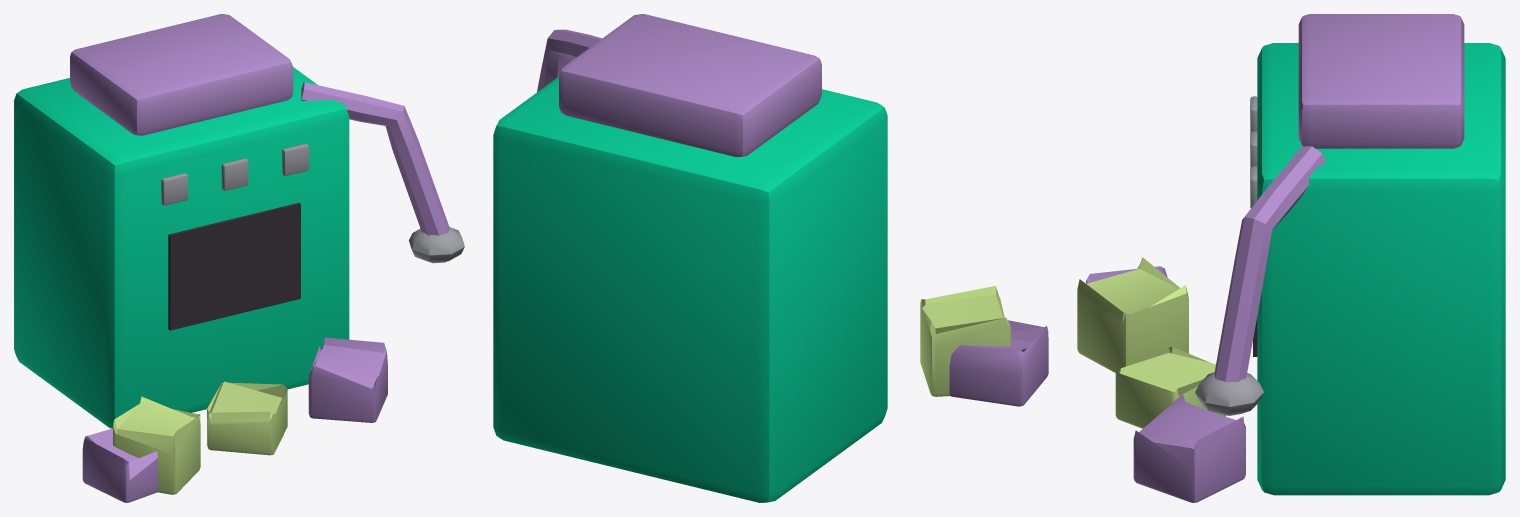
Rendered from TW_BrokenPacker.fbx.
3 views of the same model, side by side, from view 1: azimuth 30°, elevation 25°; view 2: azimuth 150°, elevation 25°; view 3: azimuth 270°, elevation 25° (orthographic). The views are drawn at different scales.
Visible parts, largest first — view 1: Body; view 2: Body; view 3: Body.
Part boxes in pixels (x1,y1,x2,y2): Body: (14, 14, 464, 502); Body: (493, 14, 1048, 502); Body: (1077, 14, 1505, 502).
Size of the model in its own units: 4.05 by 3 by 3.1.
